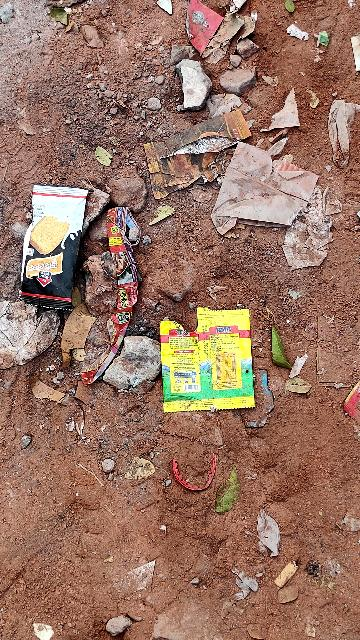packet: (170, 312, 250, 420), (26, 182, 86, 305)
